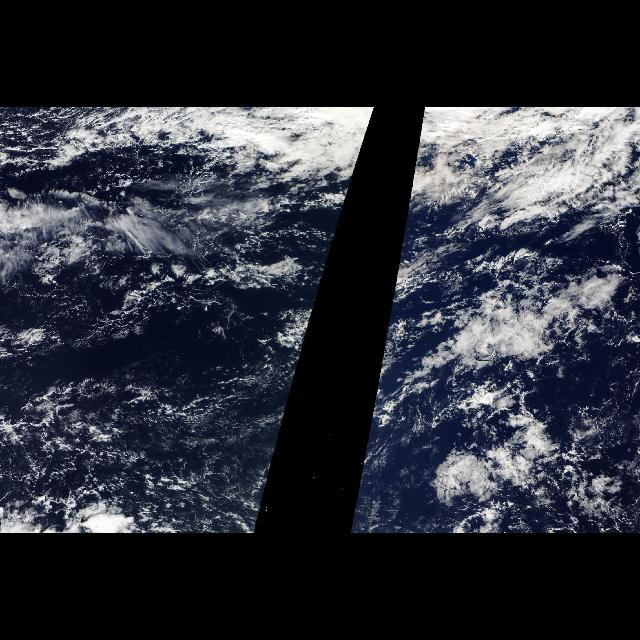Gravel: (2, 302, 266, 528)
